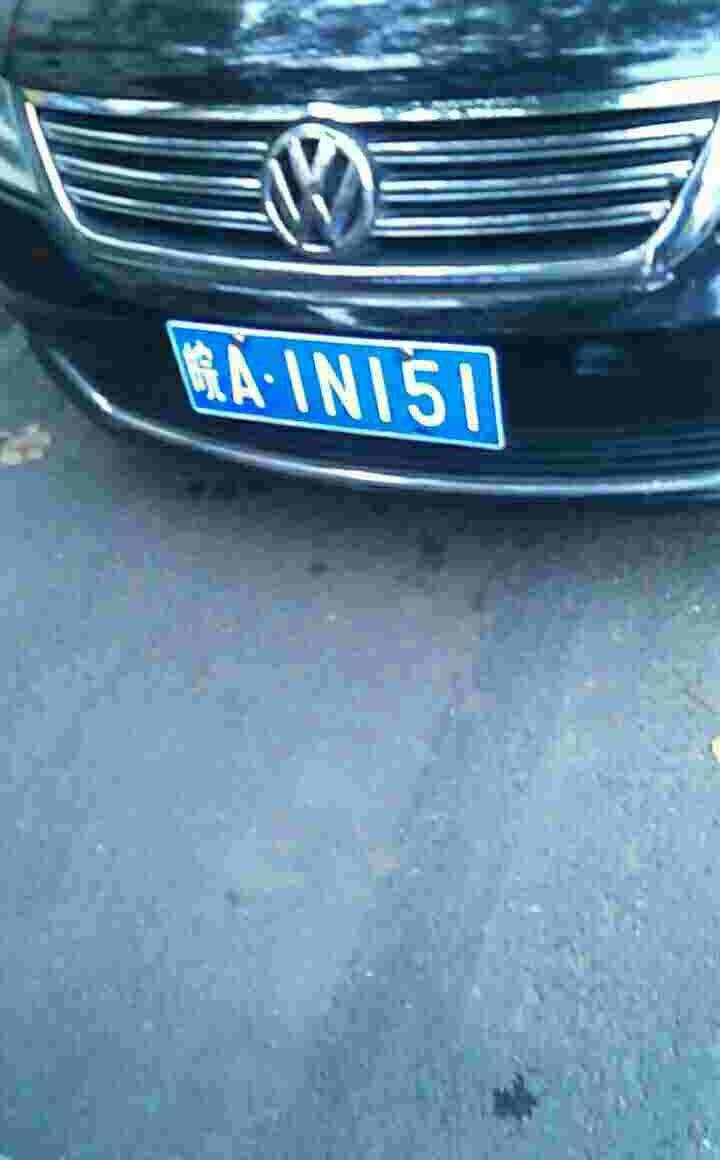license_plate: (166, 327, 528, 433)
